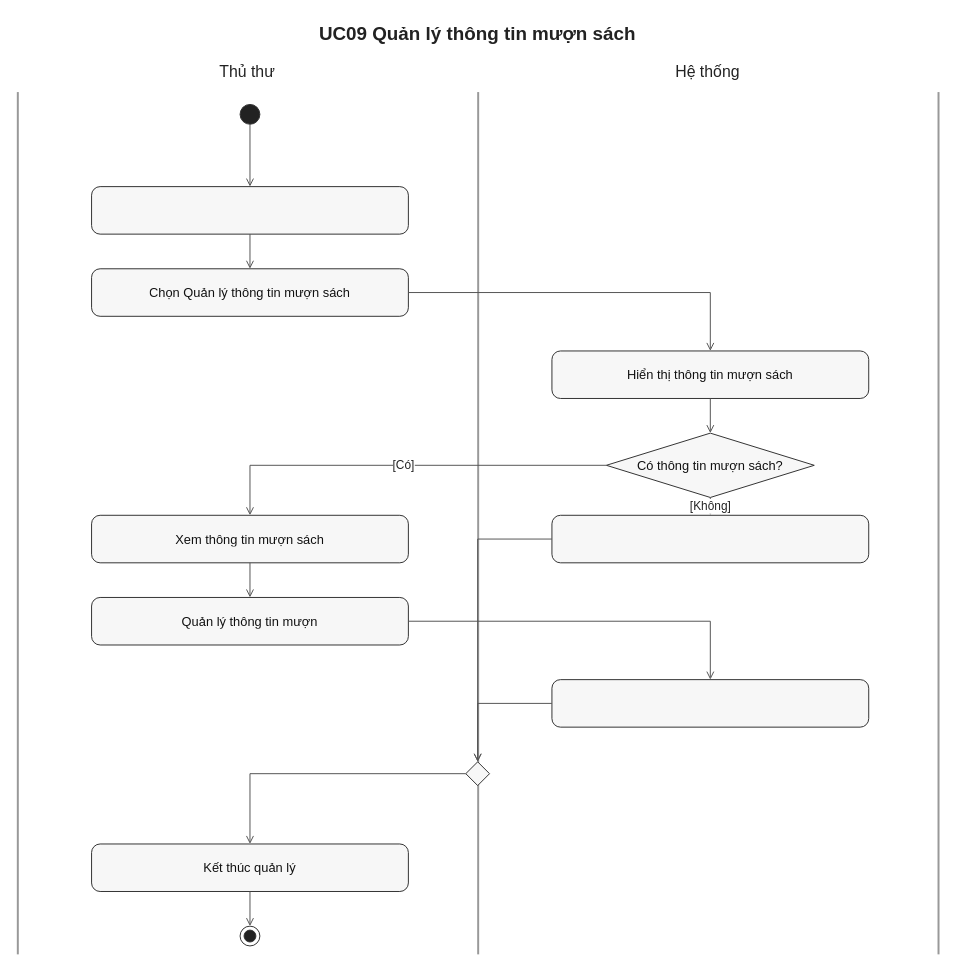
Image size: 956x971. Some labels were removed from this diagram. The shapes that lost their labels are listed below. From the top down, each one's centre as x and y in pixels, then its label:
point (249, 210): Đăng nhập hệ thống
point (710, 538): Thông báo không có thông tin mượn sách
point (710, 703): Cập nhật thông tin mượn sách
